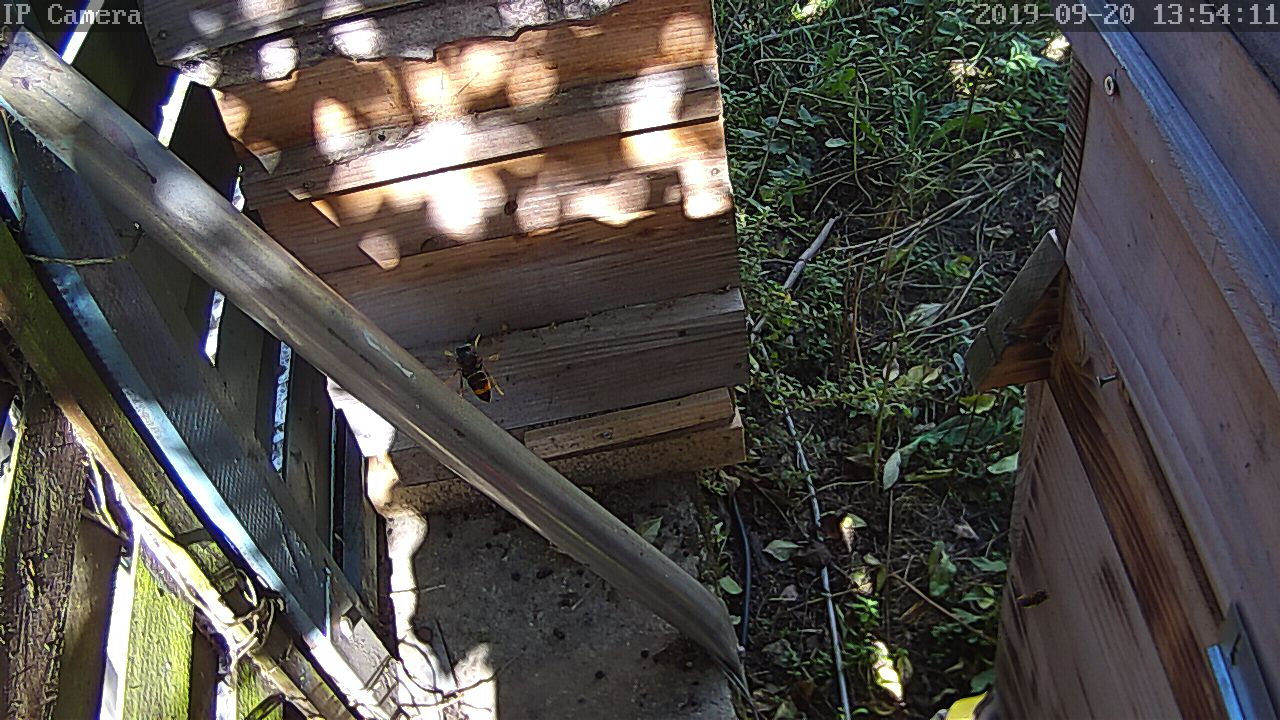bee: (1014, 585, 1053, 612)
hornet: (449, 334, 499, 401)
